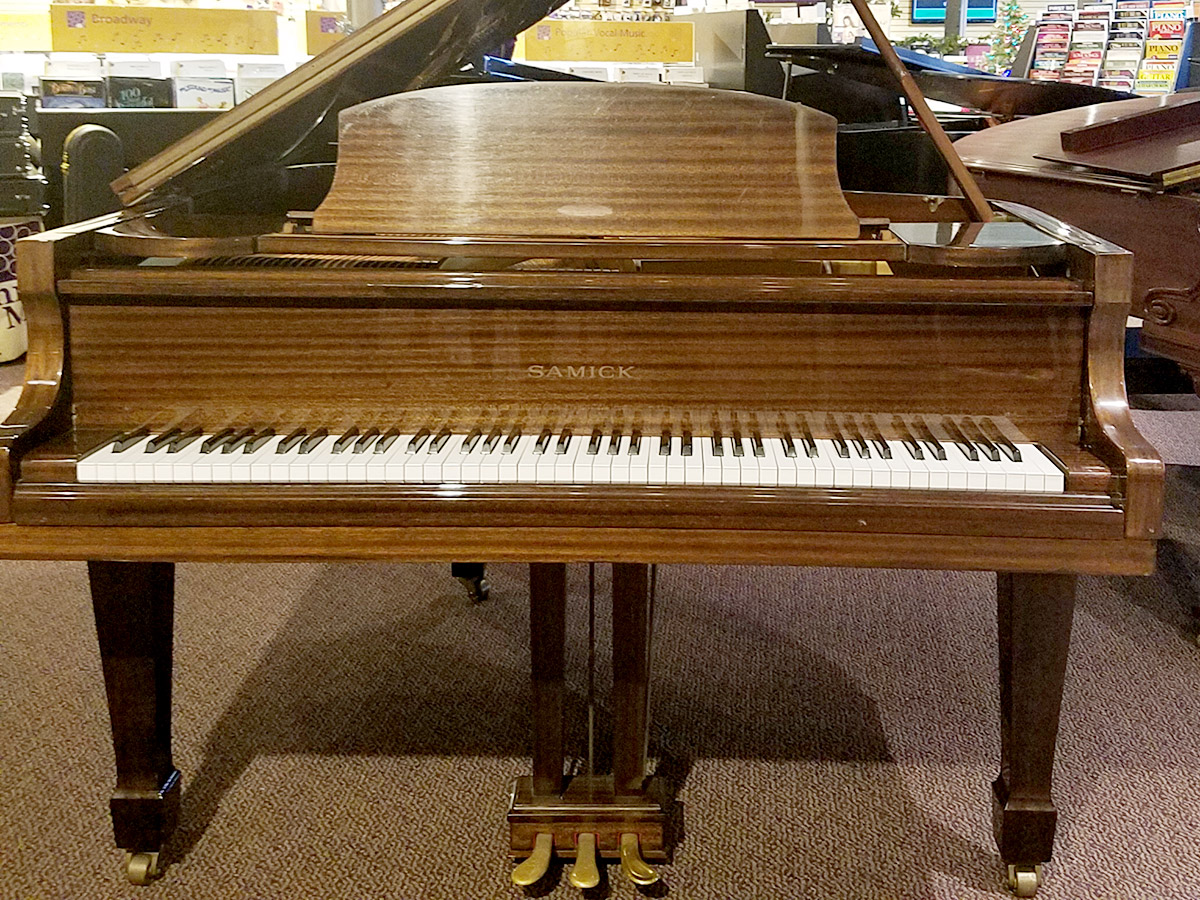GrandPiano: (24, 62, 1174, 610)
